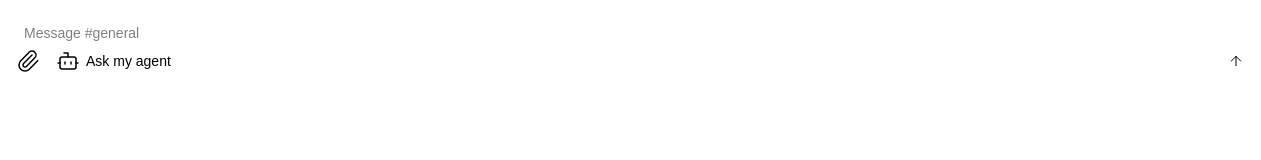
Test: Crew upload privacy handoff, from the Attach menu › refuses to open an upload when the authoritative privacy mode is unavailable
Click the button named "Attach": (28, 61) [16,49,40,73]
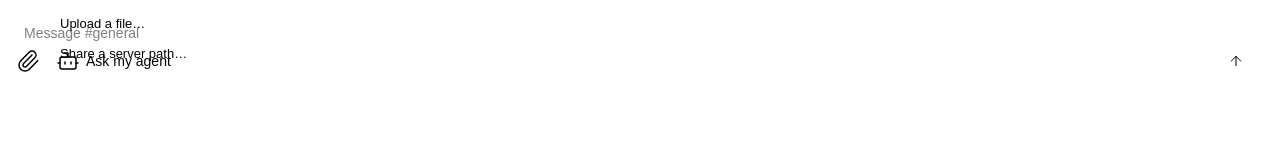
Click the menu item "Upload a file…": (103, 24) [60,16,145,31]
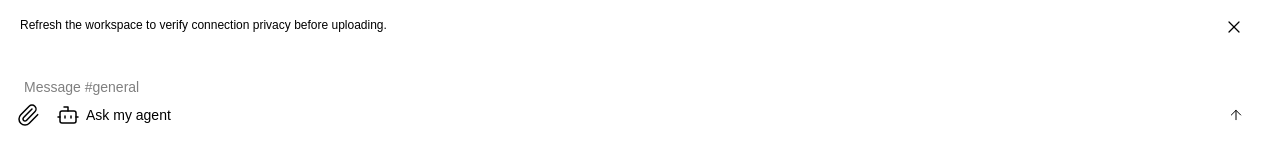
Check: the message reads "Refresh the workspace to verify connection privacy before uploading.", box [20,18,387,32]
Check: the number of messages is 1, box [20,17,1244,37]
